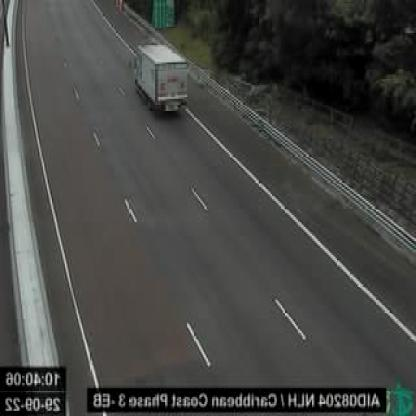Truck: (130, 40, 190, 121)
